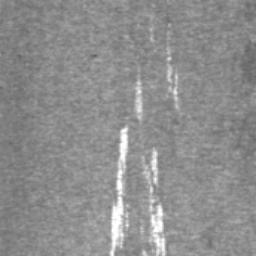White rust: (109, 125, 129, 256), (142, 147, 166, 256), (134, 79, 143, 120)
